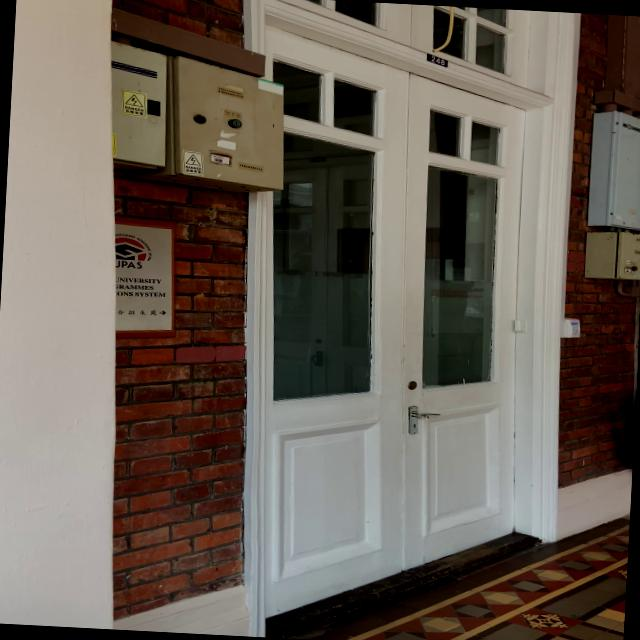room248: (423, 50, 451, 71)
